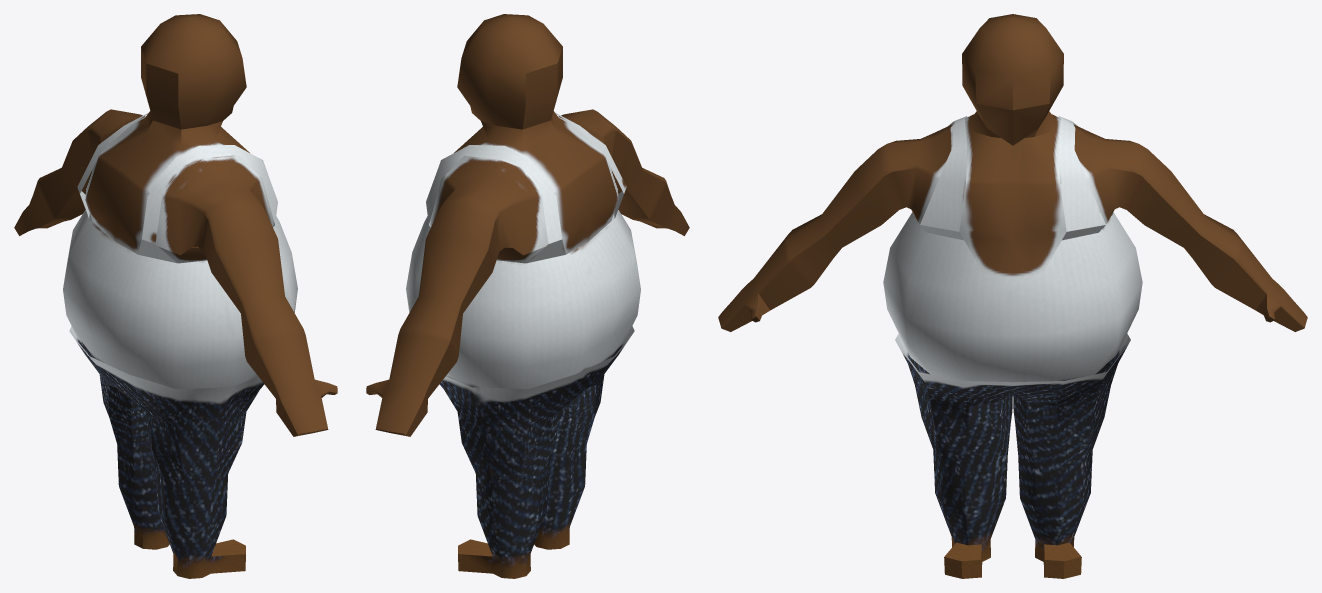
File: Fatman 1.fbx
3 renders of one model, left to right at view 1: azimuth 30°, elevation 25°; view 2: azimuth 150°, elevation 25°; view 3: azimuth 270°, elevation 25°, orthographic. The views are drawn at different scales.
Parts seen in each view (by area): view 1: Fatman; view 2: Fatman; view 3: Fatman.
Part boxes in pixels (left/top/right/bottom): Fatman: left=14, top=14, right=337, bottom=578; Fatman: left=366, top=14, right=689, bottom=578; Fatman: left=718, top=14, right=1307, bottom=578.
Bounding box in the file's own units: 487 × 498 × 190.
